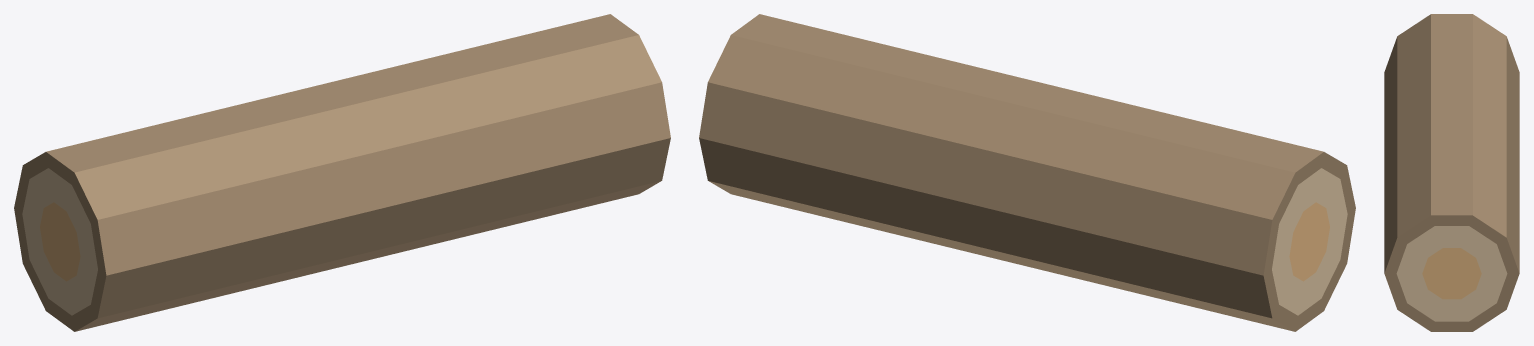
The model's file is log_final.glb.
The picture shows the model from 3 angles, left to right: view 1: azimuth 30°, elevation 25°; view 2: azimuth 150°, elevation 25°; view 3: azimuth 270°, elevation 25°; orthographic projection. The views are drawn at different scales.
Visible parts, largest first — view 1: Log; view 2: Log; view 3: Log.
Part boxes in pixels (<box>): Log: <box>14,14,670,331</box>; Log: <box>699,14,1355,331</box>; Log: <box>1384,14,1519,331</box>.
Size of the model in its own units: 0.9753 by 0.263 by 0.2766.
